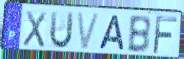A: (98, 14, 126, 53)
B: (126, 14, 152, 54)
F: (151, 14, 179, 56)
U: (48, 11, 75, 51)
V: (75, 11, 102, 52)
X: (22, 9, 48, 50)
